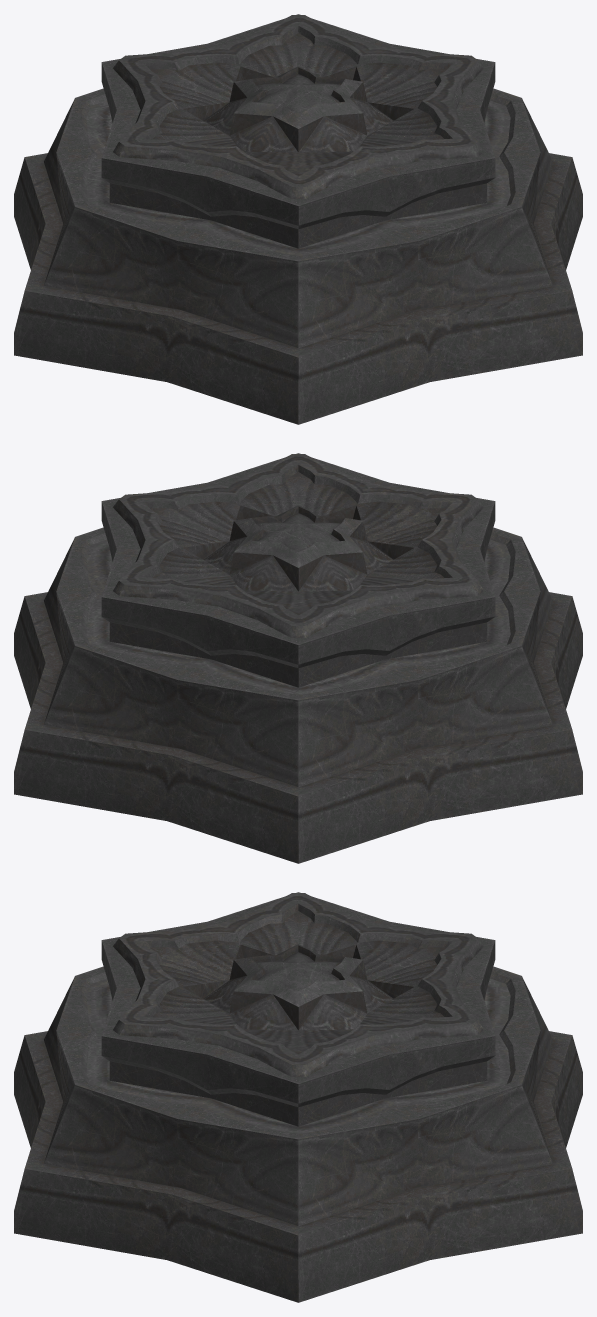
Rendered from bg_rad_kamen_pillar07a_sm.obj.
The picture shows the model from 3 angles, top to bottom: view 1: azimuth 30°, elevation 25°; view 2: azimuth 150°, elevation 25°; view 3: azimuth 270°, elevation 25°; orthographic projection.
Visible parts, largest first — view 1: bg_rad_kamen_pillar07a_sm_0, bg_rad_kamen_pillar07a_sm_1; view 2: bg_rad_kamen_pillar07a_sm_0, bg_rad_kamen_pillar07a_sm_1; view 3: bg_rad_kamen_pillar07a_sm_0, bg_rad_kamen_pillar07a_sm_1.
Part boxes in pixels (x1=…): bg_rad_kamen_pillar07a_sm_0: x1=14, y1=14, x2=582, y2=424; bg_rad_kamen_pillar07a_sm_1: x1=113, y1=15, x2=483, y2=198; bg_rad_kamen_pillar07a_sm_0: x1=14, y1=453, x2=582, y2=863; bg_rad_kamen_pillar07a_sm_1: x1=113, y1=454, x2=483, y2=637; bg_rad_kamen_pillar07a_sm_0: x1=14, y1=892, x2=582, y2=1302; bg_rad_kamen_pillar07a_sm_1: x1=113, y1=893, x2=483, y2=1076.
Size of the model in its own units: 1.72 by 0.5798 by 1.49.
2 materials, 2 textured.
